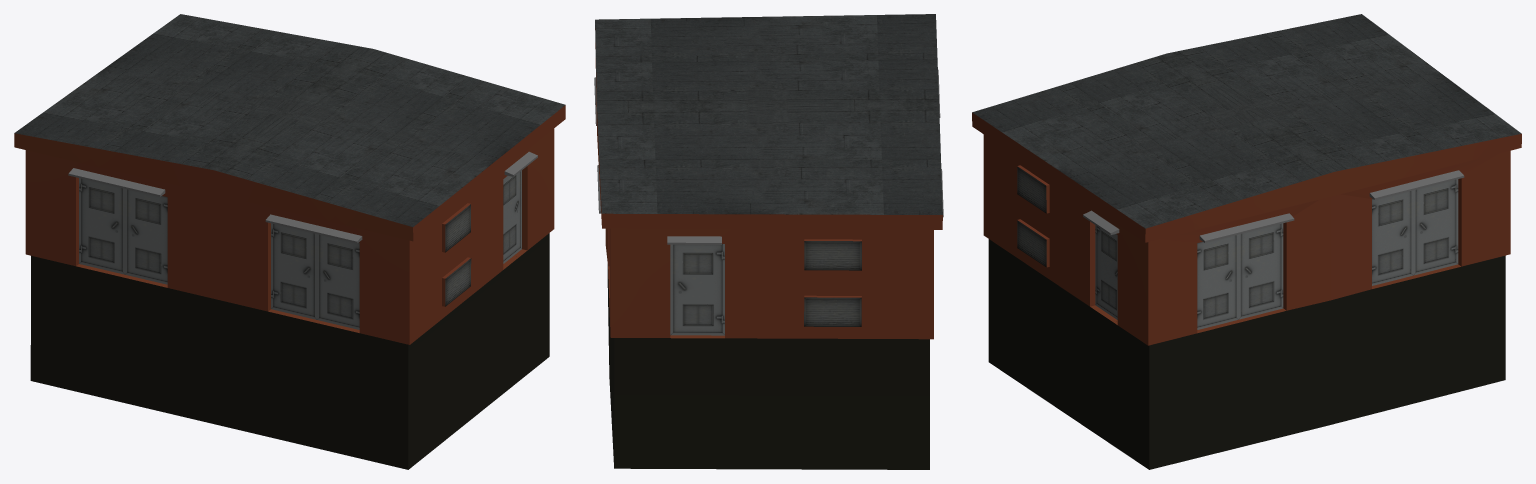
3 renders of one model, left to right at view 1: azimuth 30°, elevation 25°; view 2: azimuth 150°, elevation 25°; view 3: azimuth 270°, elevation 25°, orthographic. The views are drawn at different scales.
Parts seen in each view (by area): view 1: 01020-50@79546; view 2: 01020-50@79546; view 3: 01020-50@79546.
Boxes of the visible parts, box(x1,y1,x2,y2) form: 01020-50@79546: box(14, 14, 565, 469); 01020-50@79546: box(594, 14, 943, 469); 01020-50@79546: box(972, 14, 1521, 469).
Bounding box in the file's own units: 9.5 × 5.33 × 10.29.
1 material, 1 textured.
